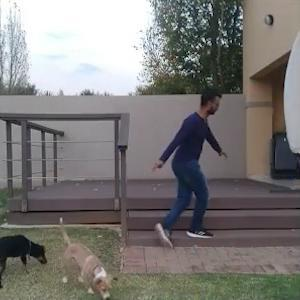land: (112, 79, 235, 257)
